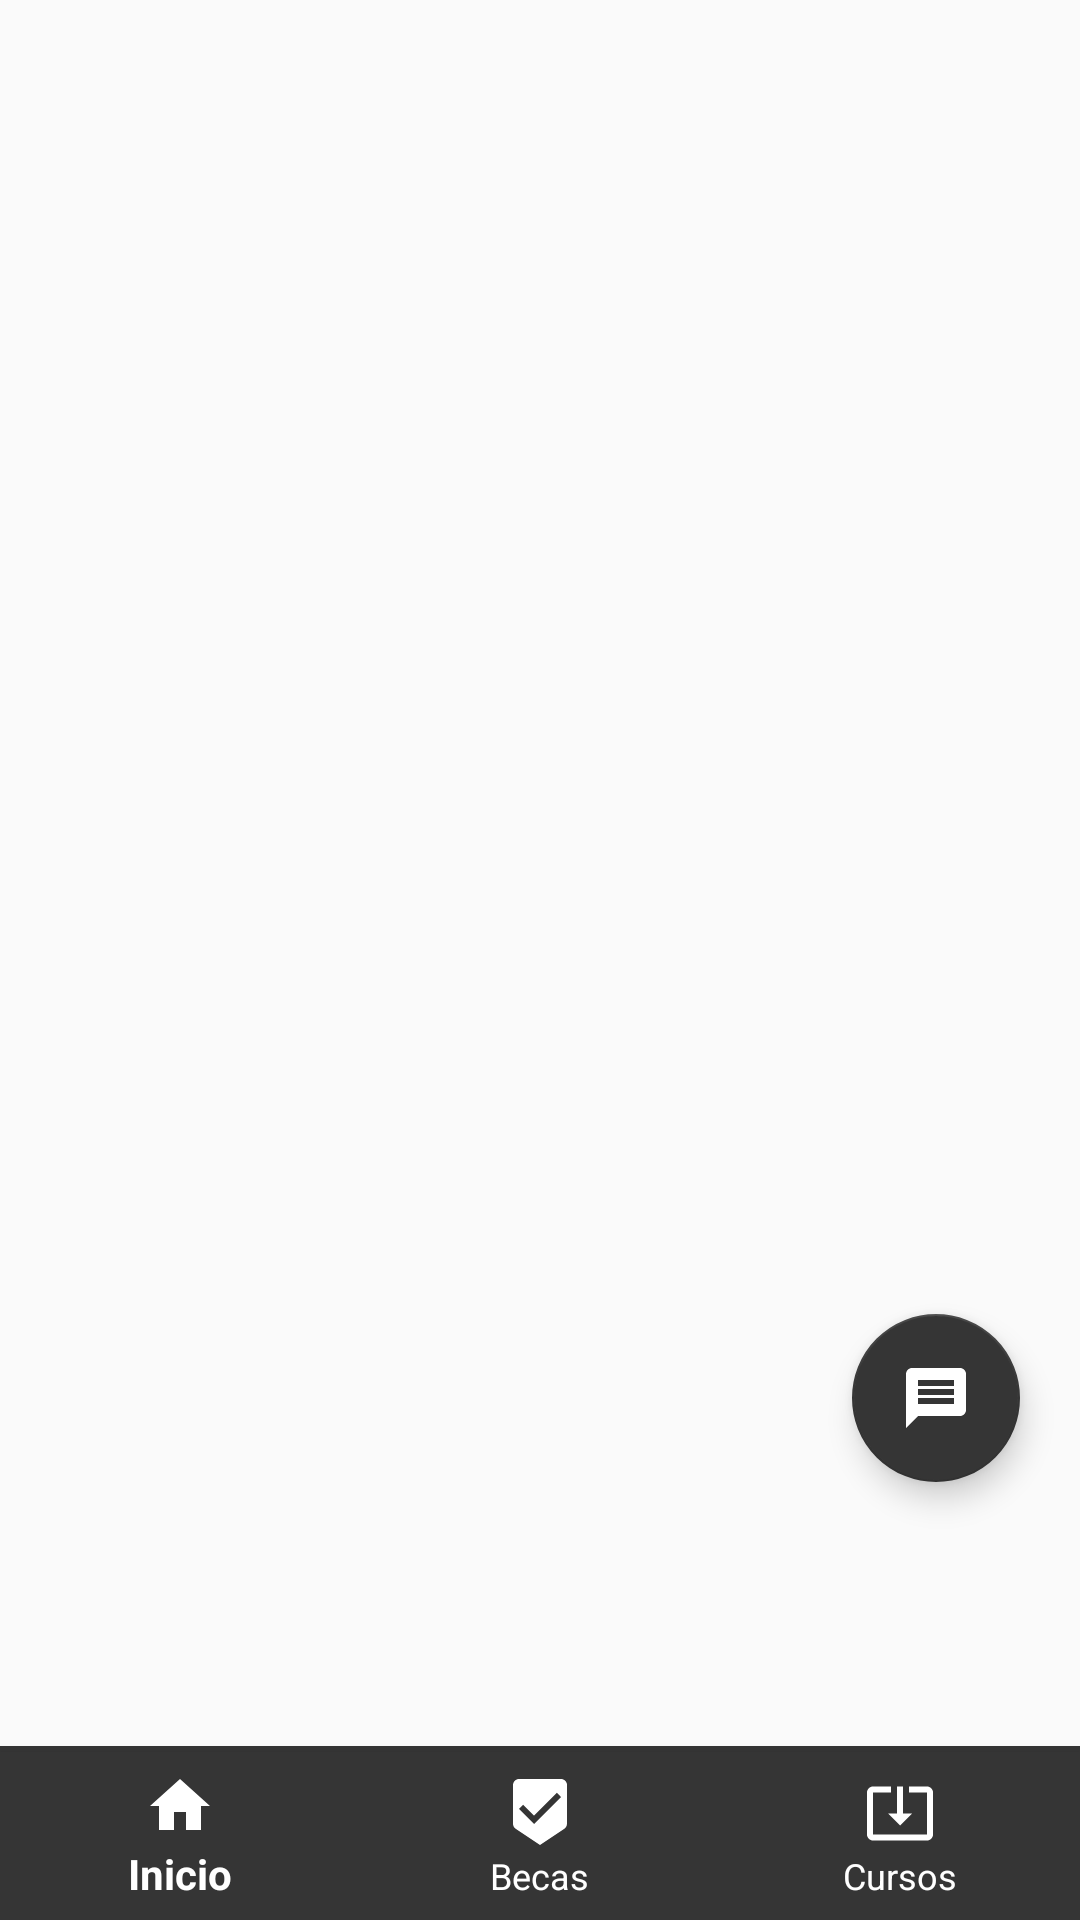

Where to tap for icons on this 1080 × 1920 app screen, as (x=x, y=y):
message: (x=936, y=1398)
